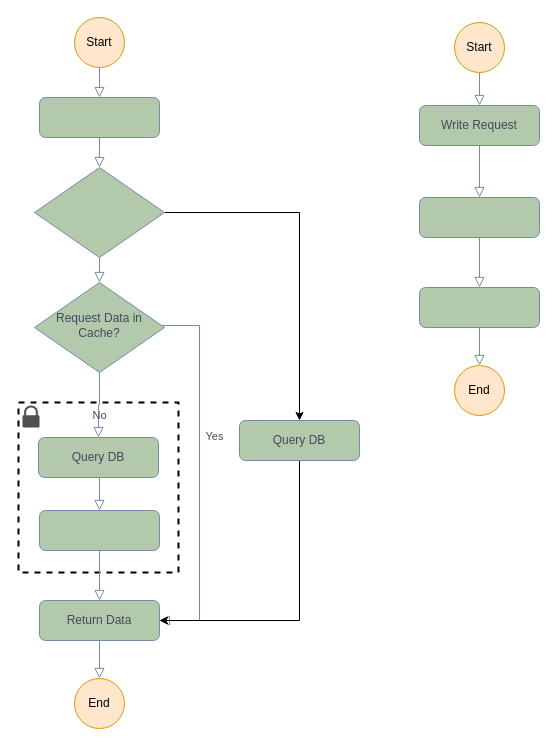
Some shapes in this 557 by 746 pixel diagram are drawn without their labels. The box of each missing label's shape, as (x1, y1, x2, y2) in pixels:
Delete Data in Cache: (418, 286, 540, 328)
Is there Lock: (34, 166, 164, 258)
Read Request: (38, 96, 160, 138)
Update Cache: (38, 510, 160, 550)
Update DB: (418, 196, 540, 238)
